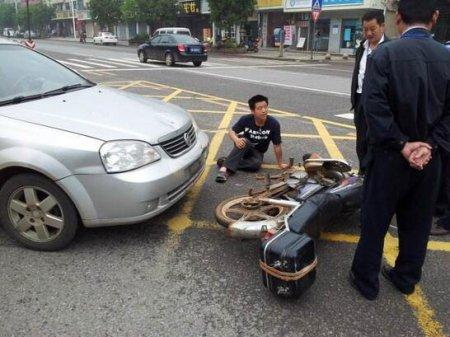fall: (209, 93, 285, 180)
